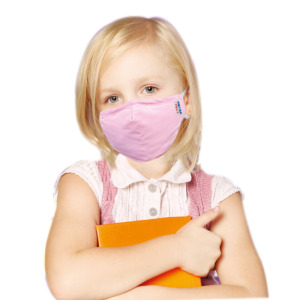face_mask: (95, 45, 182, 162)
